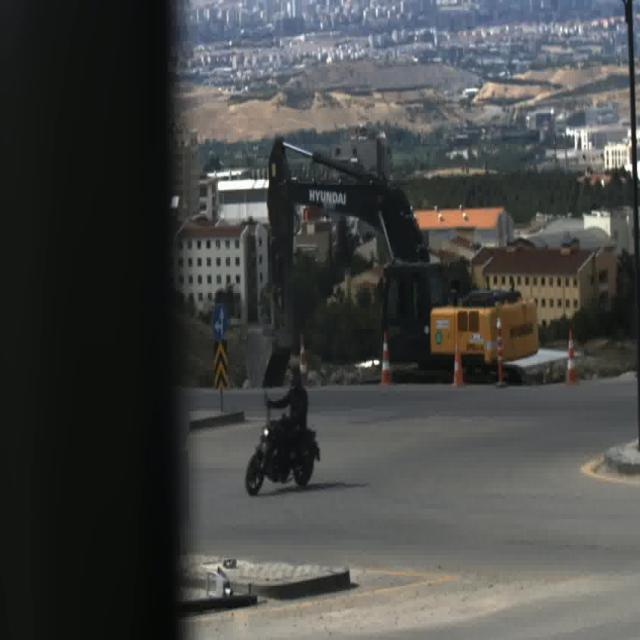Motorcycle: (244, 364, 321, 496)
